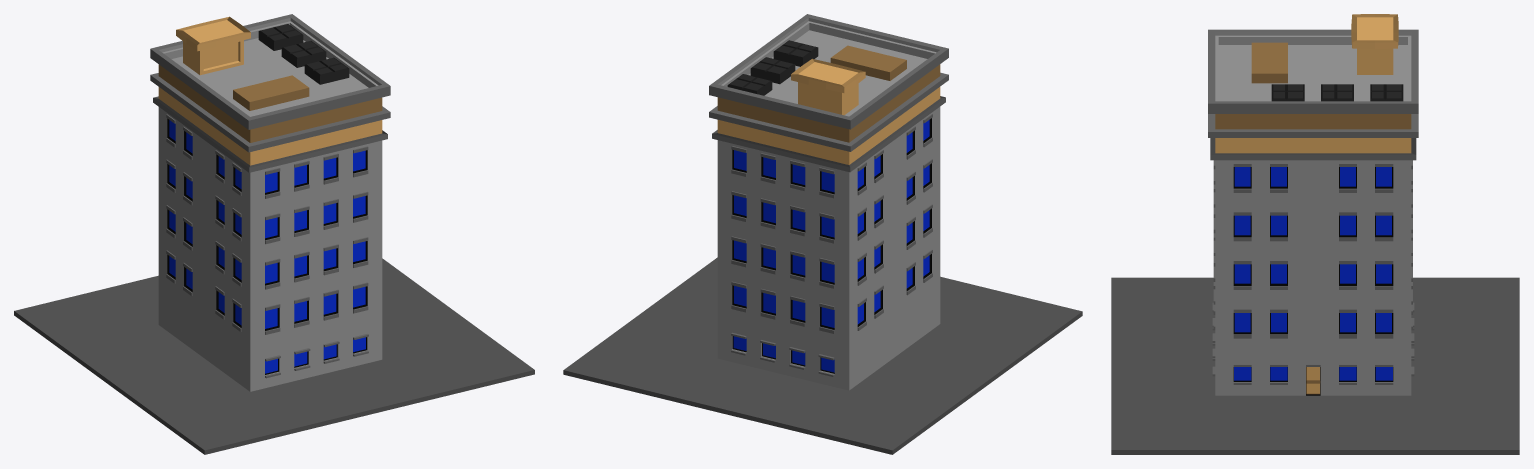
The model's file is Immeuble1_1.FBX.
3 views of the same model, side by side, from view 1: azimuth 30°, elevation 25°; view 2: azimuth 150°, elevation 25°; view 3: azimuth 270°, elevation 25° (orthographic). The views are drawn at different scales.
Parts seen in each view (by area): view 1: Immeuble1_1; view 2: Immeuble1_1; view 3: Immeuble1_1.
Boxes of the visible parts, bbox=[...] form: Immeuble1_1: bbox=[14, 14, 534, 454]; Immeuble1_1: bbox=[563, 14, 1082, 454]; Immeuble1_1: bbox=[1111, 14, 1519, 454].
Bounding box in the file's own units: 2500 × 2500 × 2183.
